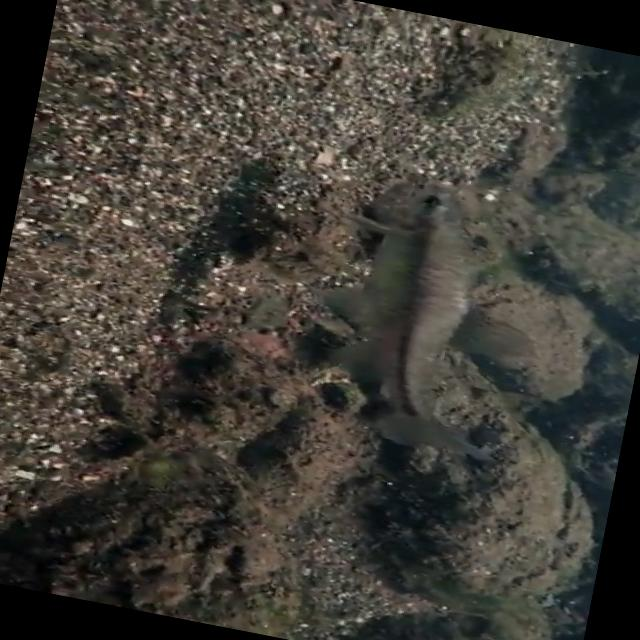Cakil Baligi: (290, 160, 552, 462)
